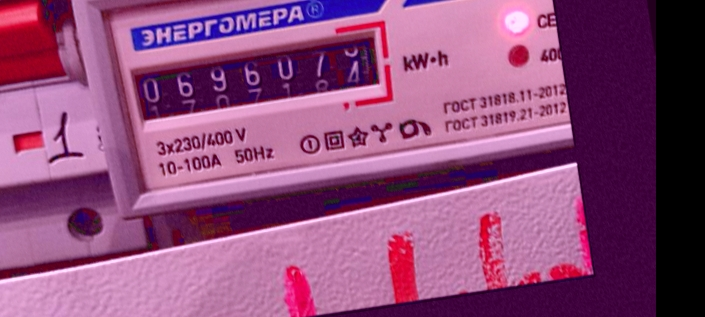0: (272, 54, 294, 86), (139, 78, 160, 108)
4: (340, 59, 362, 90)
6: (239, 60, 261, 91), (173, 72, 193, 102)
7: (306, 49, 329, 83)
9: (205, 67, 227, 97)
screen: (114, 19, 400, 143)
